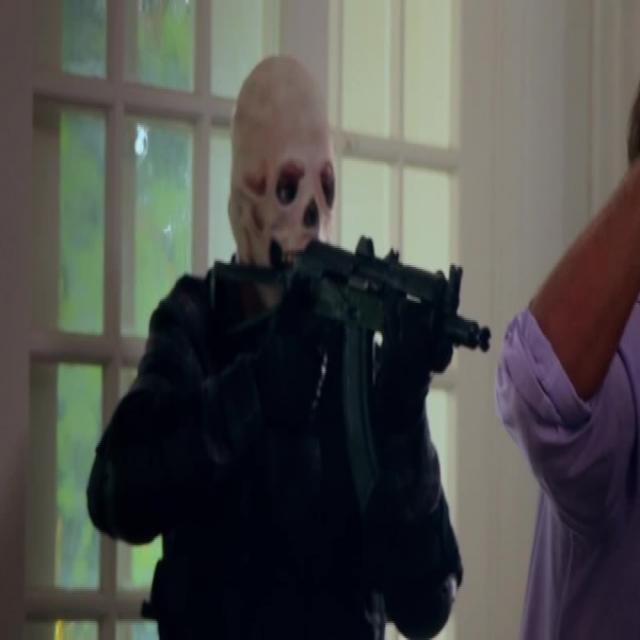rifle: (209, 229, 495, 502)
